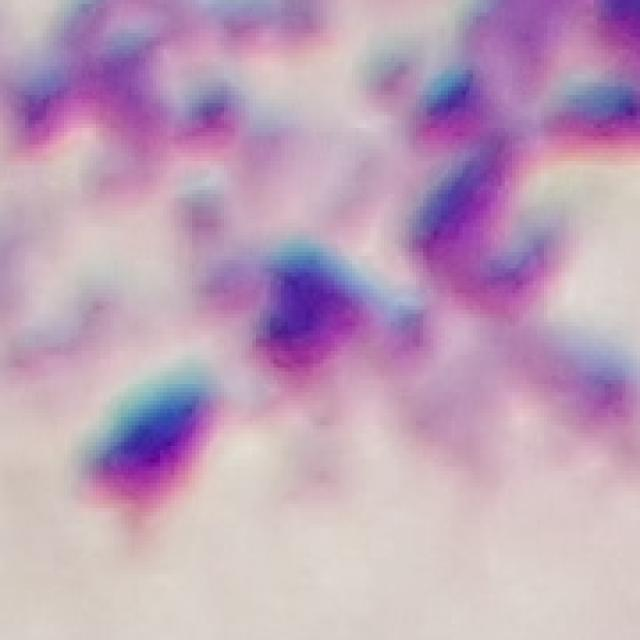non-sperm: (78, 142, 504, 505)
